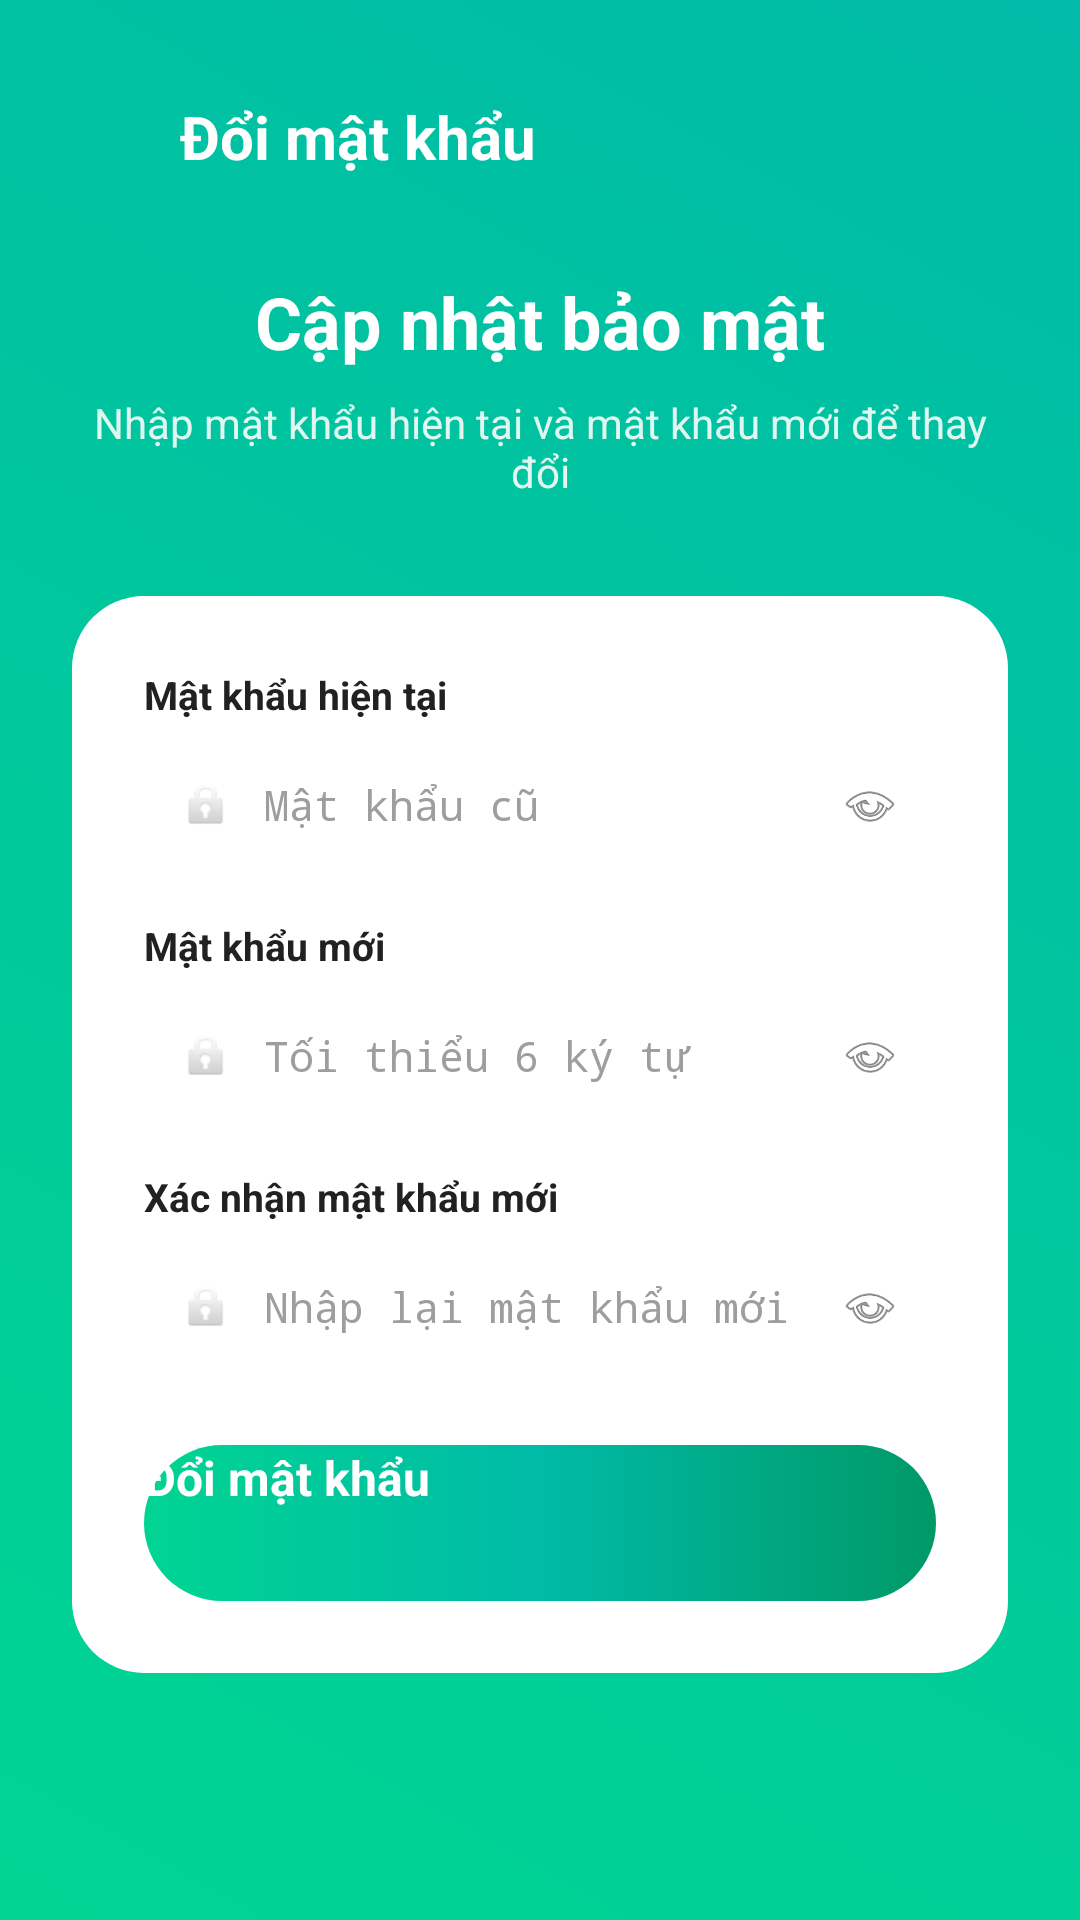

Locate icon controls on the screen. Image size 1080 × 1920, boxes as (x1, y1, x2, y2).
view: (846, 791, 894, 822), (846, 1042, 894, 1073), (846, 1293, 894, 1324)
